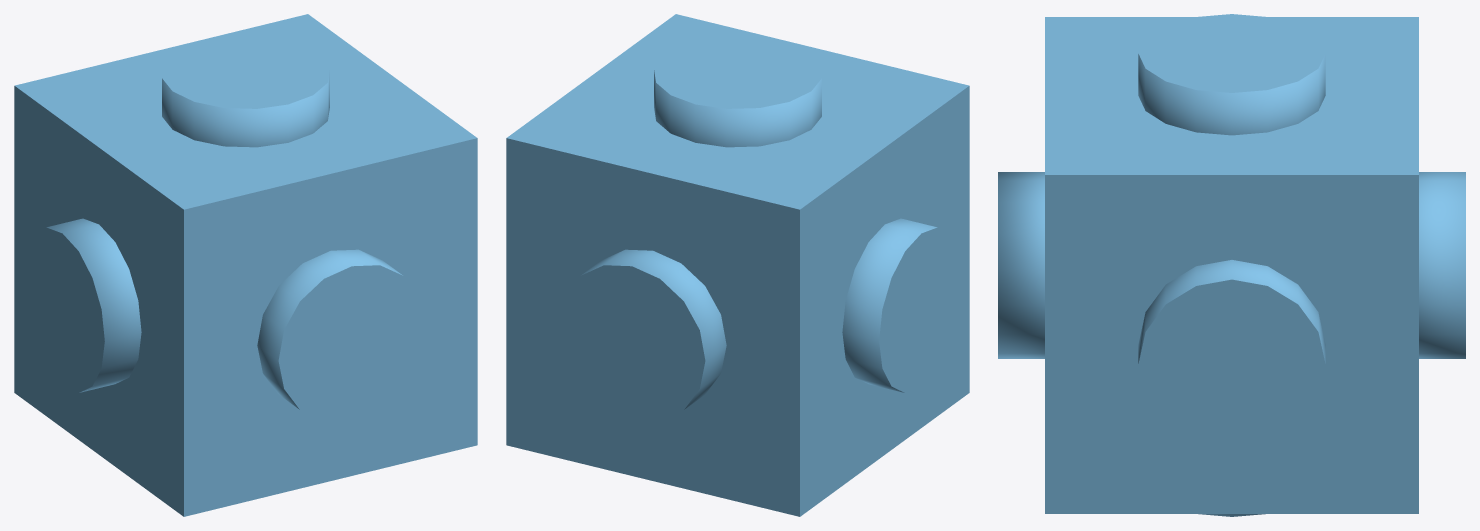
The model's file is Hummer_stage_1_piece.fbx.
3 renders of one model, left to right at view 1: azimuth 30°, elevation 25°; view 2: azimuth 150°, elevation 25°; view 3: azimuth 270°, elevation 25°, orthographic. The views are drawn at different scales.
Parts seen in each view (by area): view 1: stage_1_piece; view 2: stage_1_piece; view 3: stage_1_piece.
Part boxes in pixels (bbox=[...]): stage_1_piece: bbox=[14, 14, 477, 516]; stage_1_piece: bbox=[506, 14, 969, 516]; stage_1_piece: bbox=[998, 14, 1465, 516].
Size of the model in its own units: 25 by 25 by 25.
